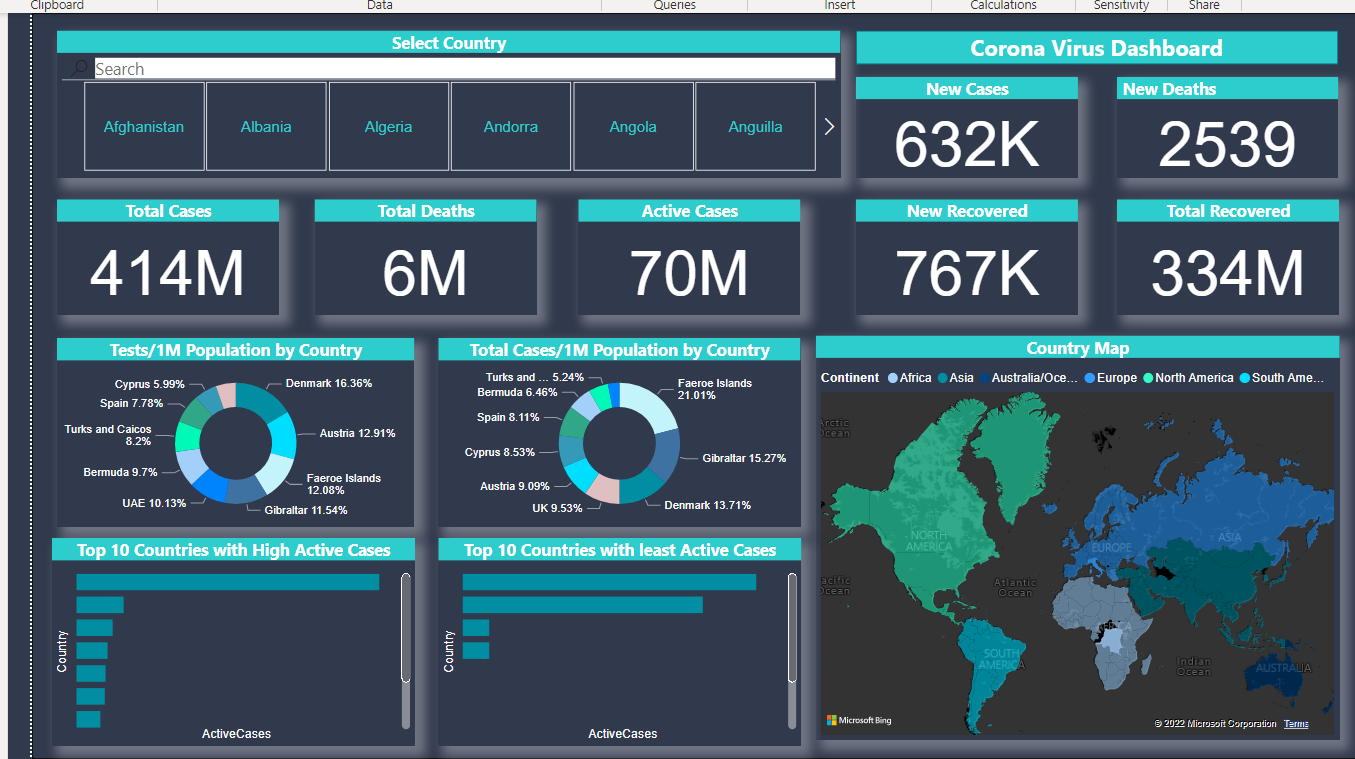

The dashboard page shown, as its layout file describes it:
{"tool":"powerbi","page":{"name":"Page 1","canvas":[1280,720],"ordinal":0},"visuals":[{"type":"card","title":"Total Cases","fields":{"Values":["Sum(Coronavirus.TotalCases)"]},"box":[24.1,179.7,214.7,111],"z":0},{"type":"card","title":"New Cases","fields":{"Values":["Sum(Coronavirus.NewCases)"]},"box":[794.8,61.5,214.7,97.7],"z":1000},{"type":"card","title":"New Deaths","fields":{"Values":["Sum(Coronavirus.NewDeaths)"]},"box":[1046.8,61.5,213.5,97.7],"z":2000},{"type":"slicer","title":"Select Country","fields":{"Values":["Coronavirus.Country"]},"box":[24.1,16.9,756.2,142.3],"z":3000},{"type":"donutChart","title":"Tests/1M Population by Country","fields":{"Category":["Coronavirus.Country"],"Y":["Sum(Coronavirus.Tests/1M pop)"]},"box":[24.1,313.6,344.9,182.1],"z":4000},{"type":"donutChart","title":"Total Cases/1M Population by Country","fields":{"Category":["Coronavirus.Country"],"Y":["Sum(Coronavirus.Tot Cases/1M pop)"]},"box":[392,313.6,349.7,182.1],"z":5000},{"type":"barChart","title":"Top 10 Countries with High Active Cases","fields":{"Category":["Coronavirus.Country"],"Y":["Sum(Coronavirus.ActiveCases)"]},"box":[19.2,506.8,350.2,200.5],"z":6000},{"type":"clusteredBarChart","title":"Top 10 Countries with least Active Cases","fields":{"Category":["Coronavirus.Country"],"Y":["Sum(Coronavirus.ActiveCases)"]},"box":[391.4,506.8,350.2,200.5],"z":7000},{"type":"filledMap","title":"Country Map","fields":{"Category":["Coronavirus.Country"],"Series":["Coronavirus.Continent"]},"box":[756.2,311.2,505.3,390.8],"z":8000},{"type":"card","title":"Total Deaths","fields":{"Values":["Sum(Coronavirus.TotalDeaths)"]},"box":[272.6,179.7,214.7,111],"z":9000},{"type":"card","title":"Active Cases","fields":{"Values":["Sum(Coronavirus.ActiveCases)"]},"box":[527,179.7,214.7,111],"z":10000},{"type":"card","title":"New Recovered","fields":{"Values":["Sum(Coronavirus.NewRecovered)"]},"box":[794.8,179.7,214.7,111],"z":11000},{"type":"card","title":"Total Recovered","fields":{"Values":["Sum(Coronavirus.TotalRecovered)"]},"box":[1046.8,179.7,214.7,111],"z":12000},{"type":"shape","box":[794.8,16.9,465.5,32.6],"z":13000}]}

Visuals, with their boxes in screenshot pixels (x1, y1, x2, y2):
"Total Cases" card: rect(8, 187, 240, 306)
"New Cases" card: rect(839, 59, 1070, 164)
"New Deaths" card: rect(1110, 59, 1340, 164)
"Select Country" slicer: rect(8, 11, 823, 164)
"Tests/1M Population by Country" donutChart: rect(8, 331, 380, 527)
"Total Cases/1M Population by Country" donutChart: rect(405, 331, 781, 527)
"Top 10 Countries with High Active Cases" barChart: rect(3, 539, 380, 755)
"Top 10 Countries with least Active Cases" clusteredBarChart: rect(404, 539, 781, 755)
"Country Map" filledMap: rect(797, 328, 1341, 749)
"Total Deaths" card: rect(276, 187, 507, 306)
"Active Cases" card: rect(550, 187, 781, 306)
"New Recovered" card: rect(839, 187, 1070, 306)
"Total Recovered" card: rect(1110, 187, 1341, 306)
shape: rect(839, 11, 1340, 46)
